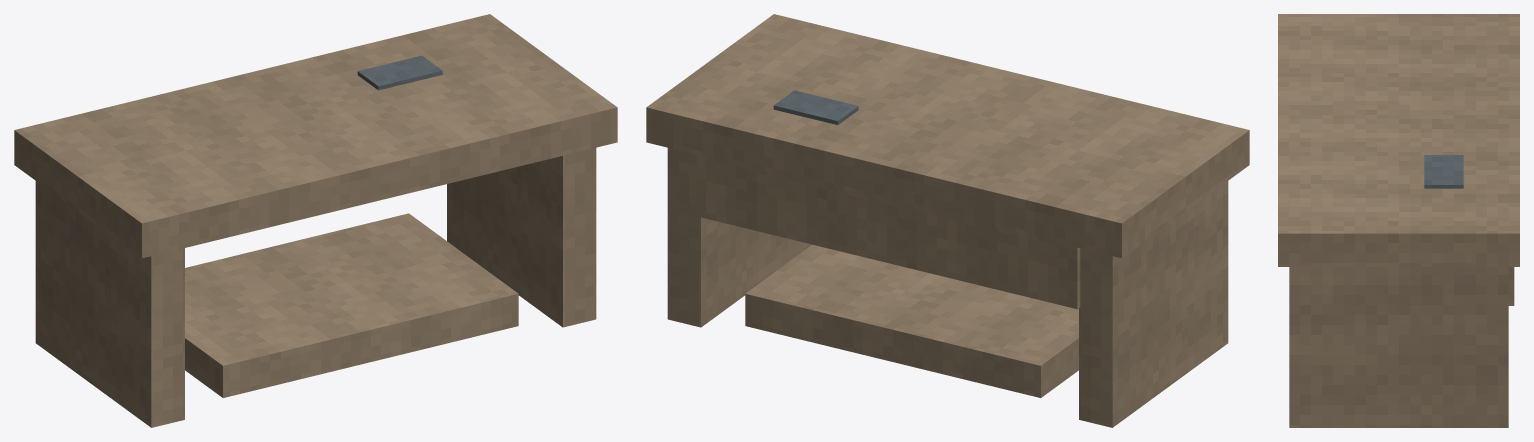
The model's file is level_blockout_headmaster_desk.glb.
3 renders of one model, left to right at view 1: azimuth 30°, elevation 25°; view 2: azimuth 150°, elevation 25°; view 3: azimuth 270°, elevation 25°, orthographic. The views are drawn at different scales.
Parts seen in each view (by area): view 1: level_blockout_headmaster_desk; view 2: level_blockout_headmaster_desk; view 3: level_blockout_headmaster_desk.
Boxes of the visible parts, x1=… form: level_blockout_headmaster_desk: x1=14, y1=14, x2=617, y2=427; level_blockout_headmaster_desk: x1=646, y1=14, x2=1249, y2=427; level_blockout_headmaster_desk: x1=1278, y1=14, x2=1519, y2=427.
Size of the model in its own units: 1.85 by 0.805 by 0.86.
3 materials, 3 textured.
